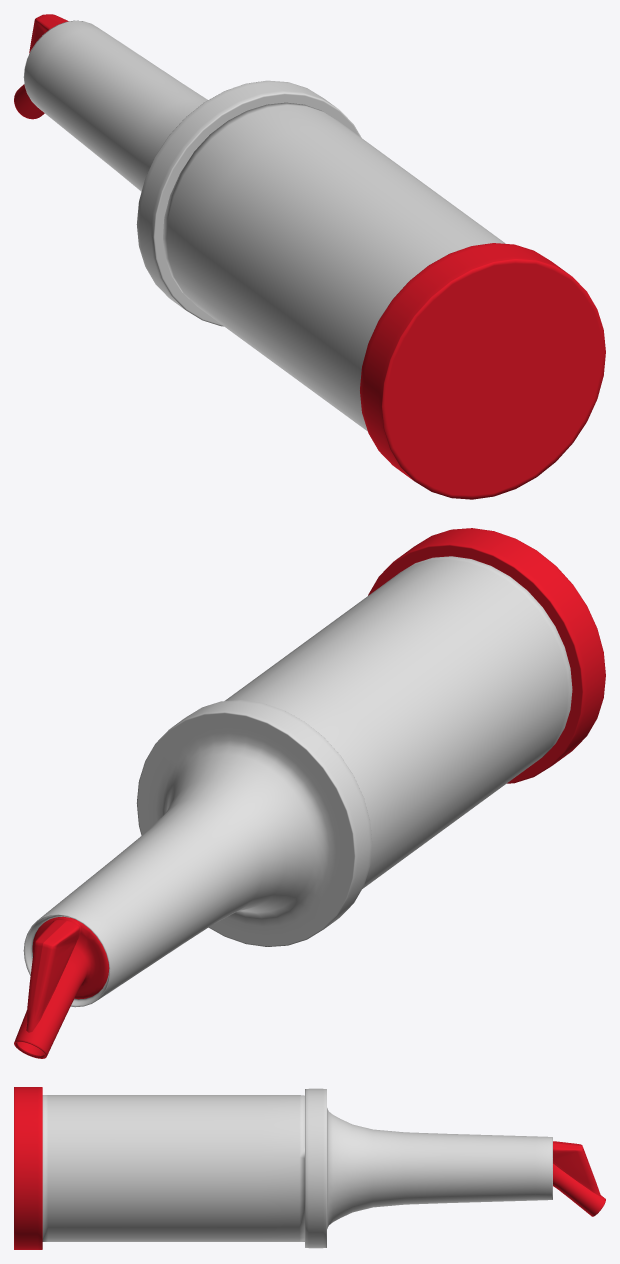
Rendered from juice-red.glb.
3 views of the same model, one above another, from view 1: azimuth 30°, elevation 25°; view 2: azimuth 150°, elevation 25°; view 3: azimuth 270°, elevation 25° (orthographic). The views are drawn at different scales.
Parts seen in each view (by area): view 1: Cylinder; view 2: Cylinder; view 3: Cylinder.
Boxes of the visible parts, x1,y1,x2,y2 form: Cylinder: (14, 14, 605, 499); Cylinder: (14, 528, 605, 1058); Cylinder: (14, 1087, 605, 1249).
Bounding box in the file's own units: 0.0432 × 0.0432 × 0.1568.
